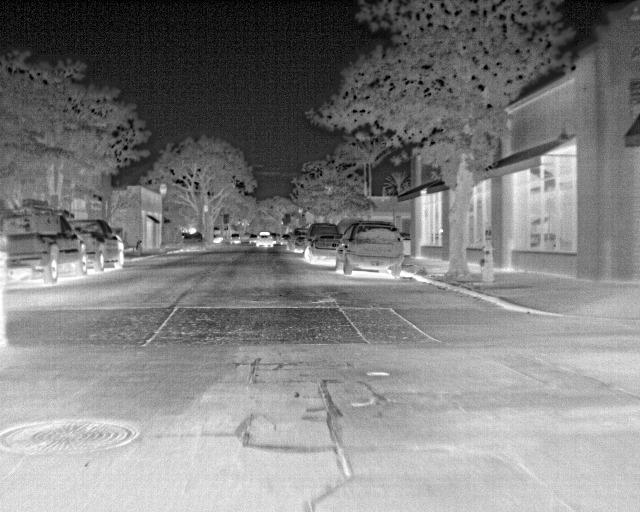bicycle: (0, 213, 88, 283), (334, 219, 403, 277), (67, 219, 124, 271), (303, 222, 342, 265), (284, 227, 307, 254), (255, 229, 274, 248), (227, 233, 241, 246), (246, 232, 258, 246)
